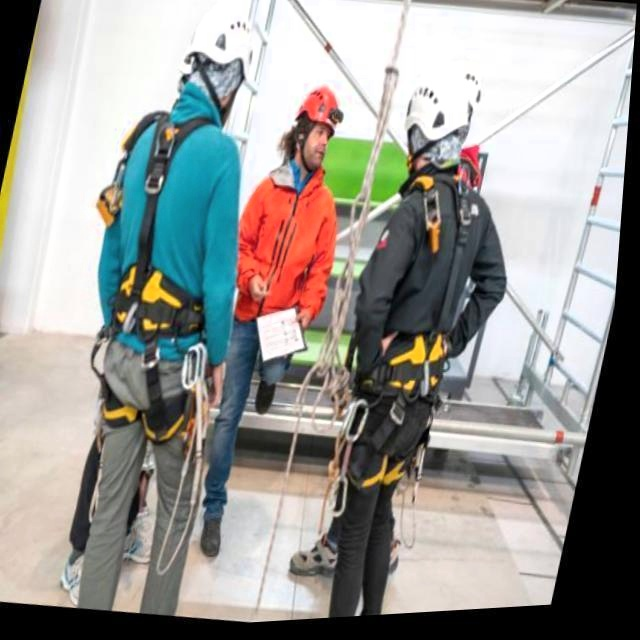safety belt: (74, 137, 212, 420), (374, 205, 466, 453)
